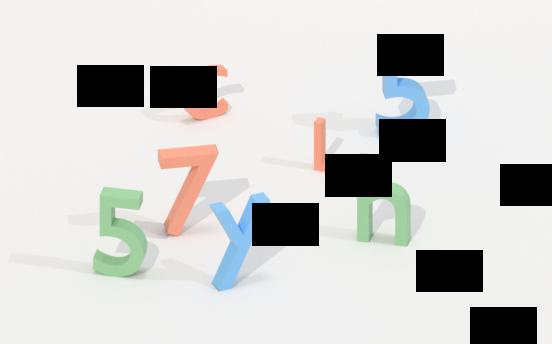5: (88, 183, 150, 281), (374, 44, 433, 141)
7: (152, 143, 222, 238)
Y: (203, 195, 273, 291)
c: (175, 62, 235, 122)
h: (351, 153, 421, 250)
l: (309, 112, 359, 178)
